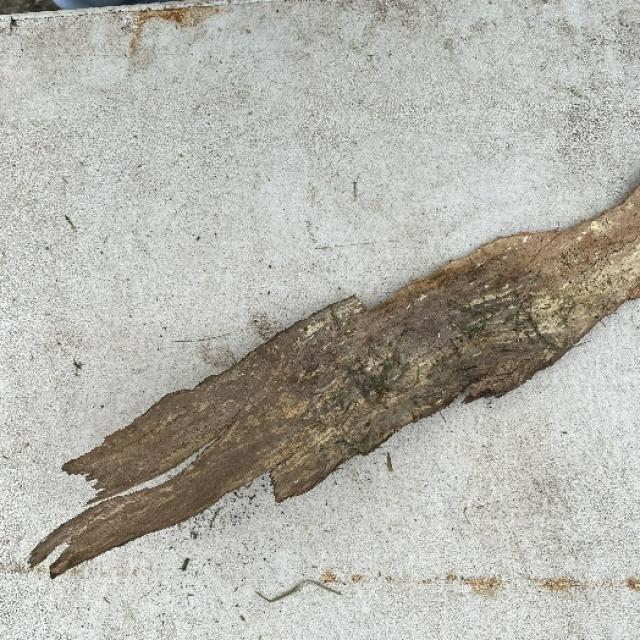wet: (297, 245, 633, 340)
